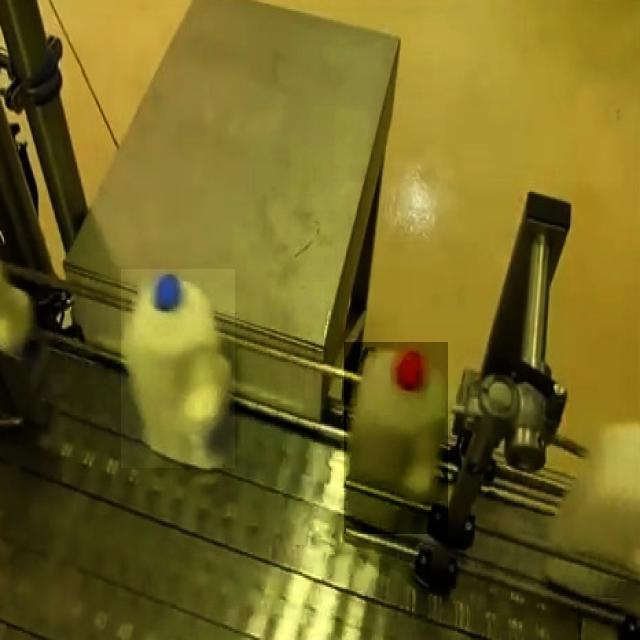milk: (323, 345, 472, 536), (124, 264, 246, 478)
